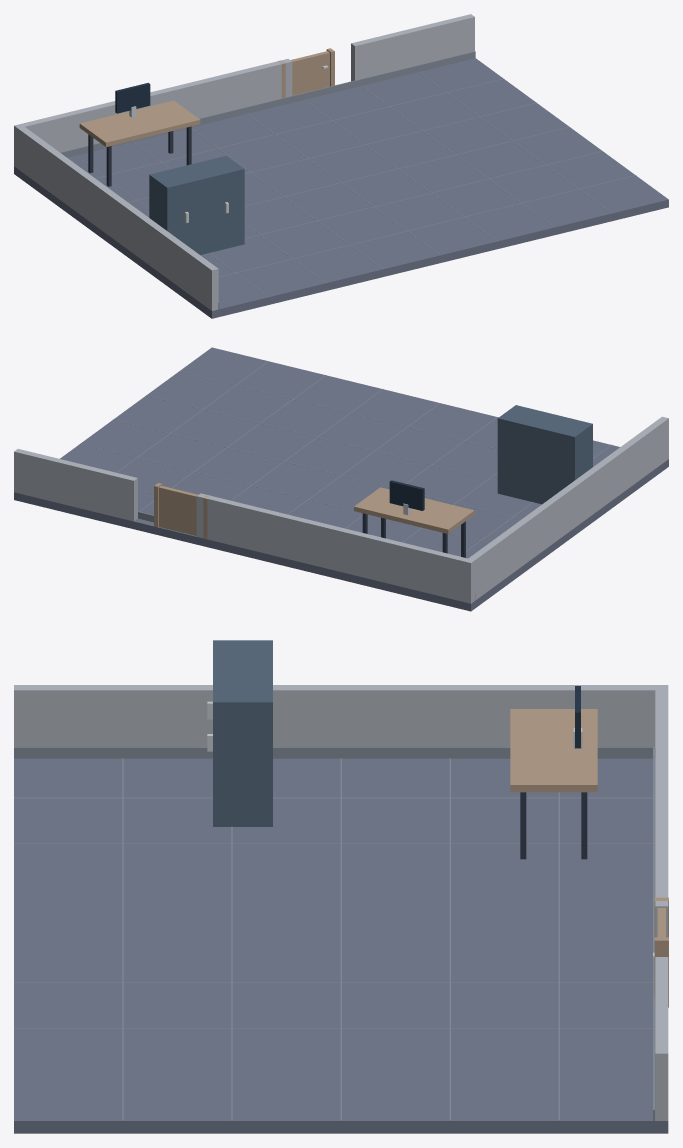
Rendered from room-illustrative-v1.glb.
The picture shows the model from 3 angles, top to bottom: view 1: azimuth 30°, elevation 25°; view 2: azimuth 150°, elevation 25°; view 3: azimuth 270°, elevation 25°; orthographic projection. The views are drawn at different scales.
Parts seen in each view (by area): view 1: floor, left-wall, cabinet, rear-wall-left, rear-wall-right, desk-top, baseboard-back, door-leaf-cutaway, monitor, tile-z-2, tile-z--2; view 2: floor, rear-wall-left, left-wall, cabinet, rear-wall-right, desk-top, door-leaf-cutaway, monitor, tile-z-0, tile-z-1; view 3: floor, left-wall, cabinet, desk-top, baseboard-left, rear-wall-left, rear-wall-right, tile-x--2, tile-x--3, baseboard-back, tile-z-2, tile-z-0 (+1 smaller).
Boxes of the visible parts, bbox=[...] form: floor: bbox=[14, 58, 668, 318]; left-wall: bbox=[14, 125, 218, 310]; cabinet: bbox=[149, 156, 244, 255]; rear-wall-left: bbox=[14, 59, 292, 167]; rear-wall-right: bbox=[351, 14, 474, 81]; desk-top: bbox=[79, 100, 200, 147]; baseboard-back: bbox=[18, 51, 475, 163]; door-leaf-cutaway: bbox=[290, 51, 329, 95]; monitor: bbox=[115, 82, 150, 113]; tile-z-2: bbox=[219, 175, 635, 277]; tile-z--2: bbox=[95, 78, 503, 178]; floor: bbox=[14, 347, 668, 611]; rear-wall-left: bbox=[196, 493, 474, 603]; left-wall: bbox=[464, 416, 668, 603]; cabinet: bbox=[497, 405, 592, 504]; rear-wall-right: bbox=[14, 449, 137, 521]; desk-top: bbox=[354, 487, 474, 533]; door-leaf-cutaway: bbox=[159, 485, 198, 535]; monitor: bbox=[389, 480, 424, 510]; tile-z-0: bbox=[113, 419, 521, 519]; tile-z-1: bbox=[146, 395, 497, 481]; floor: bbox=[14, 758, 668, 1133]; left-wall: bbox=[14, 685, 668, 746]; cabinet: bbox=[213, 640, 272, 826]; desk-top: bbox=[510, 709, 597, 792]; baseboard-left: bbox=[14, 747, 655, 758]; rear-wall-left: bbox=[655, 685, 668, 937]; rear-wall-right: bbox=[655, 957, 668, 1120]; tile-x--2: bbox=[14, 843, 655, 844]; tile-x--3: bbox=[14, 797, 652, 798]; baseboard-back: bbox=[653, 746, 654, 1120]; tile-z-2: bbox=[122, 758, 123, 1120]; tile-z-0: bbox=[340, 758, 341, 1120].
Bounding box in the file's own units: 8 × 1.41 × 6.
